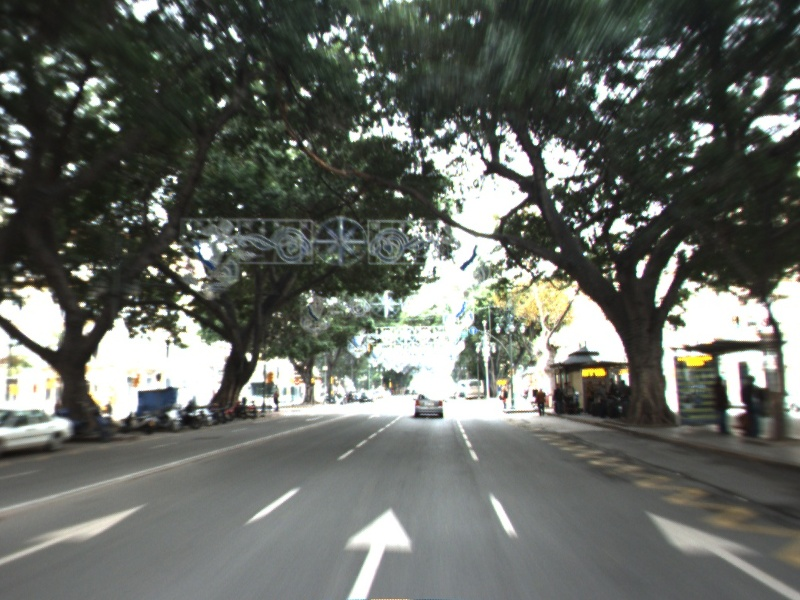STRAIGHT: (640, 506, 800, 600), (1, 501, 151, 565), (341, 503, 415, 600)
